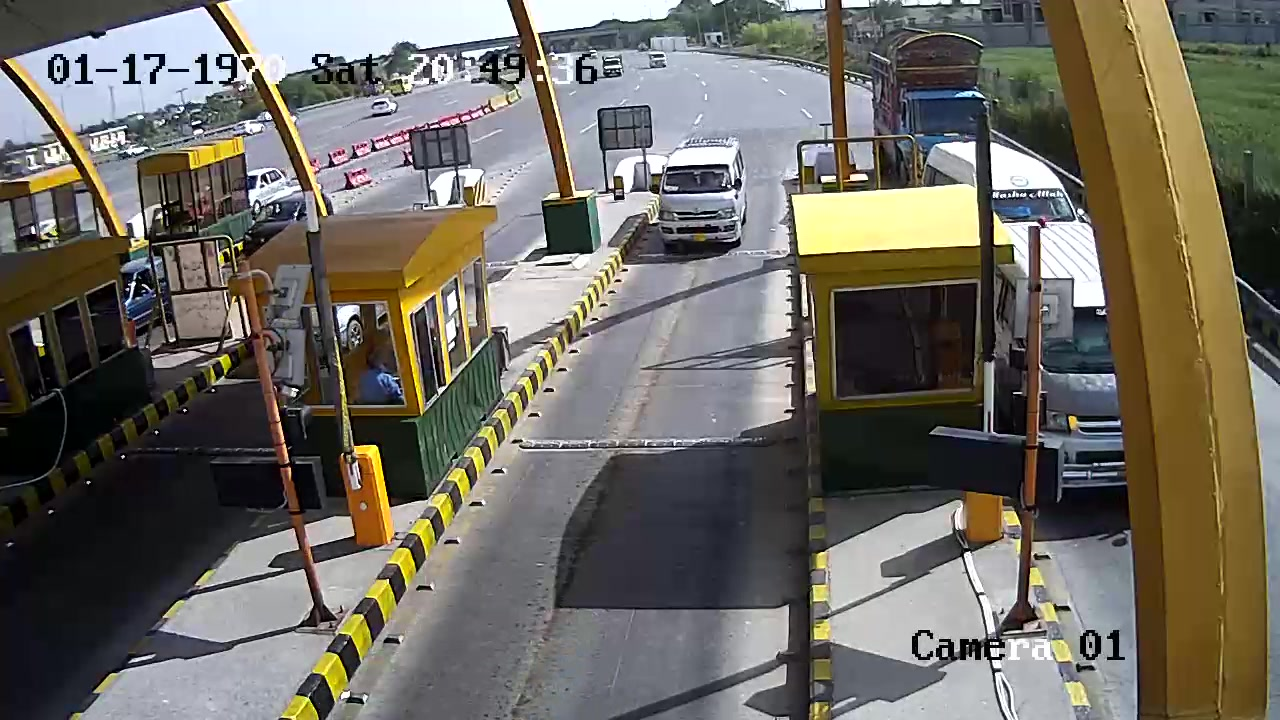F3: (660, 131, 746, 266)
